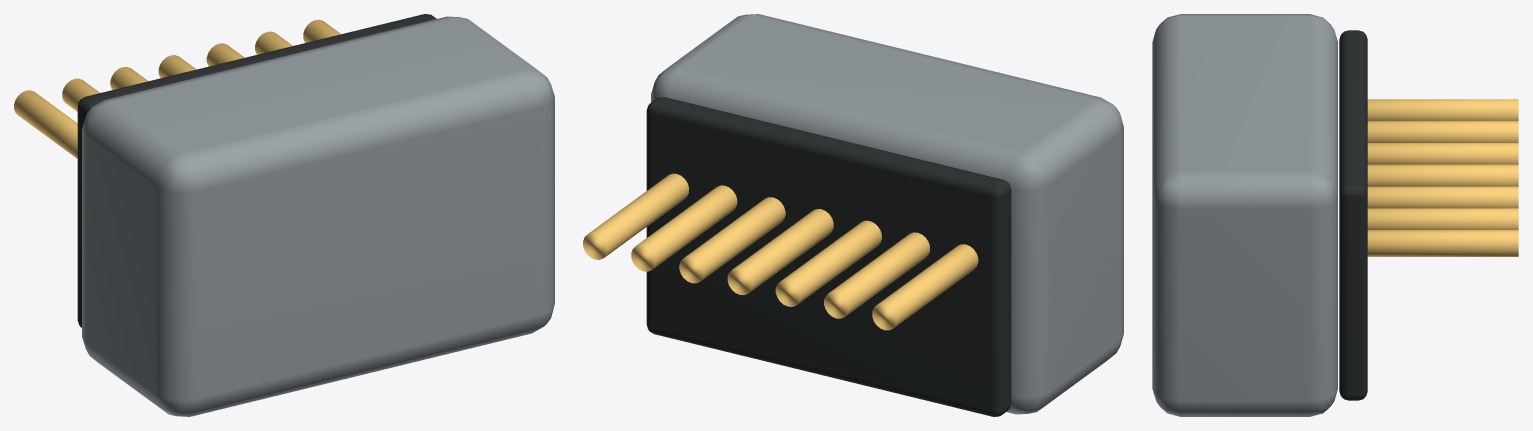
Rendered from loot_ammo_final.glb.
3 renders of one model, left to right at view 1: azimuth 30°, elevation 25°; view 2: azimuth 150°, elevation 25°; view 3: azimuth 270°, elevation 25°, orthographic. The views are drawn at different scales.
Parts seen in each view (by area): view 1: steel_ammo_can_with_latched_lid, black_lid_gasket, visible_brass_round_0, visible_brass_round_1, visible_brass_round_4, visible_brass_round_3, visible_brass_round_2, visible_brass_round_5, visible_brass_round_6; view 2: steel_ammo_can_with_latched_lid, black_lid_gasket, visible_brass_round_4, visible_brass_round_5, visible_brass_round_3, visible_brass_round_0, visible_brass_round_2, visible_brass_round_6, visible_brass_round_1; view 3: steel_ammo_can_with_latched_lid, black_lid_gasket, visible_brass_round_6, visible_brass_round_3, visible_brass_round_4, visible_brass_round_0, visible_brass_round_1, visible_brass_round_2, visible_brass_round_5.
Boxes of the visible parts, x1,y1,x2,y2 form: steel_ammo_can_with_latched_lid: (82, 16, 554, 416); black_lid_gasket: (77, 14, 436, 327); visible_brass_round_0: (14, 90, 77, 158); visible_brass_round_1: (62, 78, 99, 111); visible_brass_round_4: (206, 43, 244, 66); visible_brass_round_3: (158, 55, 196, 78); visible_brass_round_2: (110, 67, 148, 89); visible_brass_round_5: (255, 31, 292, 54); visible_brass_round_6: (303, 19, 340, 42); steel_ammo_can_with_latched_lid: (651, 14, 1123, 414); black_lid_gasket: (646, 97, 1011, 416); visible_brass_round_4: (679, 197, 785, 283); visible_brass_round_5: (631, 185, 737, 271); visible_brass_round_3: (727, 209, 833, 295); visible_brass_round_0: (872, 244, 978, 330); visible_brass_round_2: (775, 220, 881, 306); visible_brass_round_6: (583, 173, 688, 259); visible_brass_round_1: (824, 232, 929, 318); steel_ammo_can_with_latched_lid: (1152, 14, 1337, 416); black_lid_gasket: (1339, 30, 1367, 400); visible_brass_round_6: (1367, 230, 1518, 256); visible_brass_round_3: (1367, 164, 1518, 186); visible_brass_round_4: (1367, 186, 1518, 208); visible_brass_round_0: (1367, 99, 1518, 120); visible_brass_round_1: (1367, 121, 1518, 142); visible_brass_round_2: (1367, 143, 1518, 164); visible_brass_round_5: (1367, 208, 1518, 229).
Bounding box in the file's own units: 0.82 × 0.52 × 0.71.
